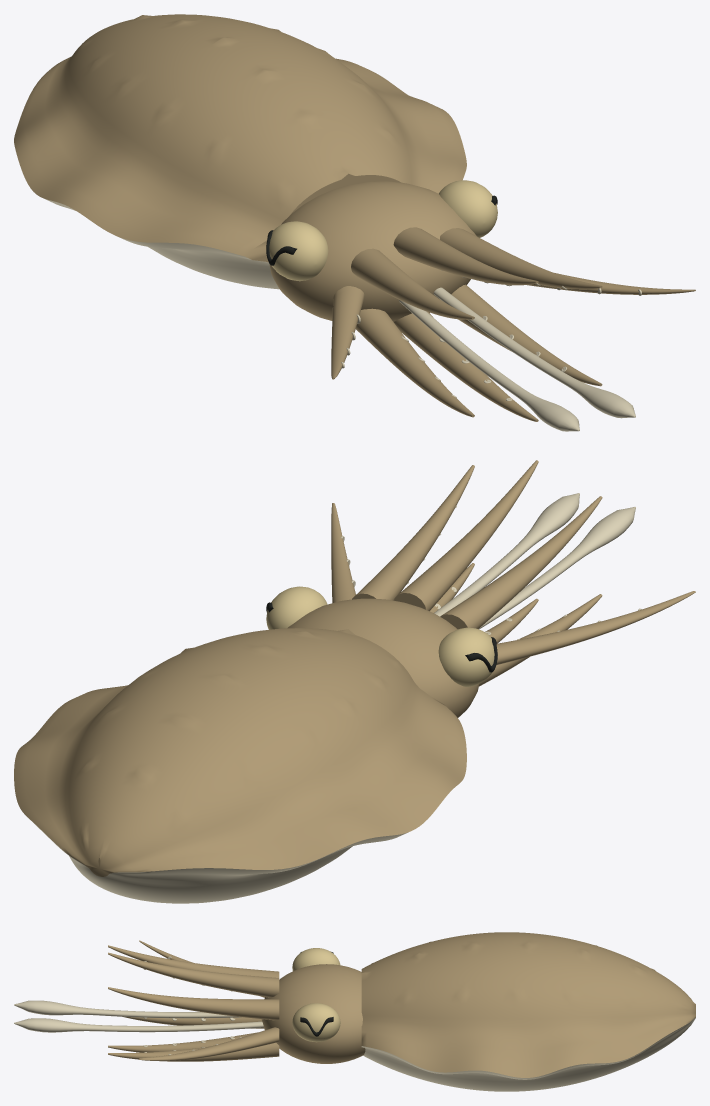
The picture shows the model from 3 angles, top to bottom: view 1: azimuth 30°, elevation 25°; view 2: azimuth 150°, elevation 25°; view 3: azimuth 270°, elevation 25°; orthographic projection. The views are drawn at different scales.
Visible parts, largest first — view 1: Broad_mantle_with_integrated_lateral_fin_skirt, Attached_head_and_closed_arm_crown, Arm_05_attached_complete_skin, Arm_02_attached_complete_skin, Arm_06_attached_complete_skin, Arm_03_attached_complete_skin, Right_attached_feeding_tentacle_with_club, Left_attached_feeding_tentacle_with_club, Arm_01_attached_complete_skin, Left_seated_eye, Arm_07_attached_complete_skin, Right_seated_eye (+2 smaller); view 2: Broad_mantle_with_integrated_lateral_fin_skirt, Attached_head_and_closed_arm_crown, Arm_02_attached_complete_skin, Arm_03_attached_complete_skin, Arm_01_attached_complete_skin, Arm_04_attached_complete_skin, Right_attached_feeding_tentacle_with_club, Left_seated_eye, Left_attached_feeding_tentacle_with_club, Right_seated_eye, Arm_00_attached_complete_skin, Arm_05_attached_complete_skin; view 3: Broad_mantle_with_integrated_lateral_fin_skirt, Attached_head_and_closed_arm_crown, Arm_01_attached_complete_skin, Arm_02_attached_complete_skin, Right_attached_feeding_tentacle_with_club, Left_attached_feeding_tentacle_with_club, Arm_00_attached_complete_skin, Right_seated_eye, Arm_07_attached_complete_skin, Arm_03_attached_complete_skin, Arm_06_attached_complete_skin, Arm_05_attached_complete_skin (+1 smaller).
Boxes of the visible parts, x1=… form: Broad_mantle_with_integrated_lateral_fin_skirt: x1=14, y1=14, x2=466, y2=289; Attached_head_and_closed_arm_crown: x1=269, y1=181, x2=476, y2=321; Arm_05_attached_complete_skin: x1=356, y1=308, x2=474, y2=417; Arm_02_attached_complete_skin: x1=393, y1=227, x2=538, y2=285; Arm_06_attached_complete_skin: x1=394, y1=311, x2=538, y2=421; Arm_03_attached_complete_skin: x1=351, y1=248, x2=474, y2=319; Right_attached_feeding_tentacle_with_club: x1=433, y1=287, x2=635, y2=418; Left_attached_feeding_tentacle_with_club: x1=399, y1=300, x2=579, y2=431; Arm_01_attached_complete_skin: x1=440, y1=228, x2=602, y2=289; Left_seated_eye: x1=269, y1=221, x2=328, y2=281; Arm_07_attached_complete_skin: x1=451, y1=284, x2=602, y2=386; Right_seated_eye: x1=439, y1=180, x2=497, y2=237; Broad_mantle_with_integrated_lateral_fin_skirt: x1=14, y1=628, x2=466, y2=903; Attached_head_and_closed_arm_crown: x1=287, y1=598, x2=479, y2=717; Arm_02_attached_complete_skin: x1=394, y1=460, x2=538, y2=611; Arm_03_attached_complete_skin: x1=440, y1=496, x2=602, y2=629; Arm_01_attached_complete_skin: x1=352, y1=465, x2=474, y2=600; Arm_04_attached_complete_skin: x1=496, y1=591, x2=695, y2=664; Right_attached_feeding_tentacle_with_club: x1=434, y1=493, x2=579, y2=616; Left_seated_eye: x1=438, y1=627, x2=497, y2=686; Left_attached_feeding_tentacle_with_club: x1=478, y1=507, x2=635, y2=629; Right_seated_eye: x1=266, y1=586, x2=327, y2=629; Arm_00_attached_complete_skin: x1=331, y1=503, x2=355, y2=603; Arm_05_attached_complete_skin: x1=479, y1=594, x2=602, y2=686; Broad_mantle_with_integrated_lateral_fin_skirt: x1=361, y1=932, x2=695, y2=1091; Attached_head_and_closed_arm_crown: x1=261, y1=964, x2=365, y2=1063; Arm_01_attached_complete_skin: x1=108, y1=987, x2=279, y2=1020; Arm_02_attached_complete_skin: x1=108, y1=952, x2=279, y2=997; Right_attached_feeding_tentacle_with_club: x1=14, y1=1018, x2=263, y2=1032; Left_attached_feeding_tentacle_with_club: x1=14, y1=1000, x2=241, y2=1018; Arm_00_attached_complete_skin: x1=139, y1=1027, x2=279, y2=1060; Right_seated_eye: x1=292, y1=1003, x2=340, y2=1042; Arm_07_attached_complete_skin: x1=108, y1=1042, x2=279, y2=1061; Arm_03_attached_complete_skin: x1=108, y1=945, x2=279, y2=977; Arm_06_attached_complete_skin: x1=108, y1=1032, x2=257, y2=1052; Arm_05_attached_complete_skin: x1=122, y1=1016, x2=263, y2=1028.
Bounding box in the file's own units: 0.384 × 0.1928 × 0.877.
